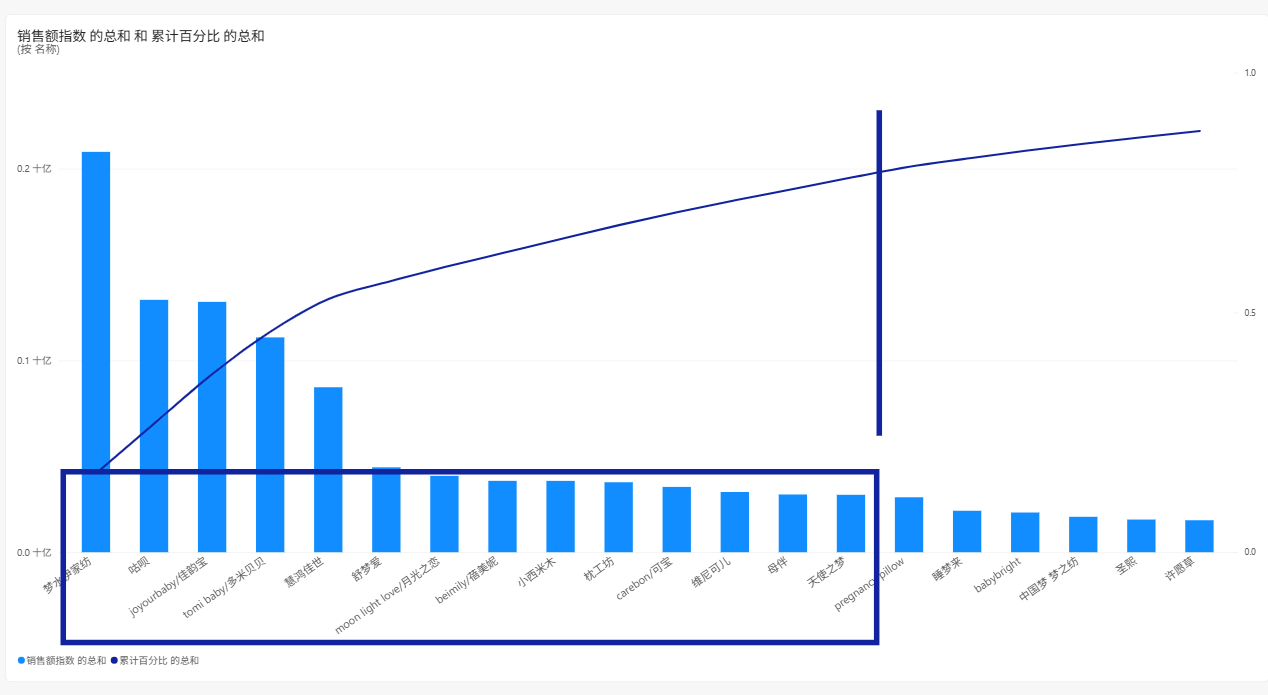

Layout of this report page (visuals, bound fields, positions):
{"tool":"powerbi","page":{"name":"品牌集中度","canvas":[1920,1080],"ordinal":4},"visuals":[{"type":"lineClusteredColumnComboChart","fields":{"Category":["品牌集中度表.名称"],"Y":["Sum(品牌集中度表.销售额指数)"],"Y2":["Sum(品牌集中度表.累计百分比)"]},"box":[39.1,65.9,1829.9,967.4],"z":0},{"type":"shape","box":[119.4,724.5,1185.6,255.2],"z":1},{"type":"shape","box":[1206.2,203.8,195.5,471.4],"z":2}]}

Visuals, with their boxes in screenshot pixels (x1, y1, x2, y2), scaled from the page's 1920x1080 canvas onto the 1268x695 screenshot:
lineClusteredColumnComboChart - 品牌集中度表.名称 x Sum(品牌集中度表.销售额指数): box=[26, 42, 1234, 665]
shape: box=[79, 466, 862, 630]
shape: box=[797, 131, 926, 435]
